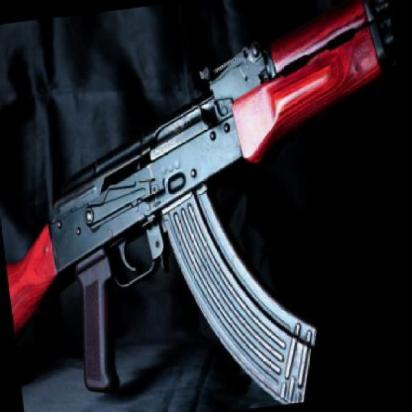Gun: (10, 0, 391, 398)
